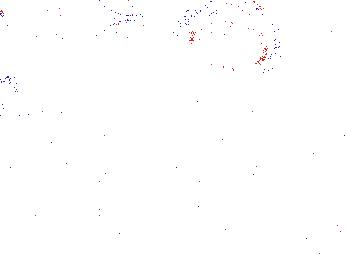moon jellyfish: (18, 31, 126, 98), (179, 1, 276, 72), (89, 21, 172, 64)
